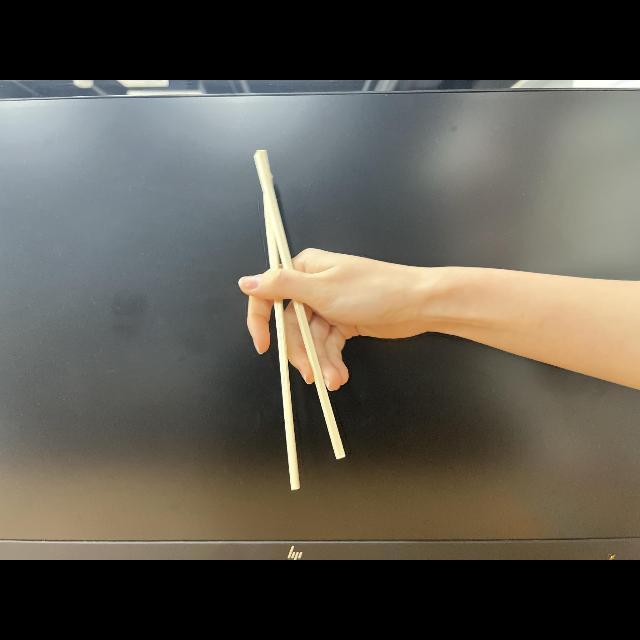stick: (239, 146, 429, 492)
